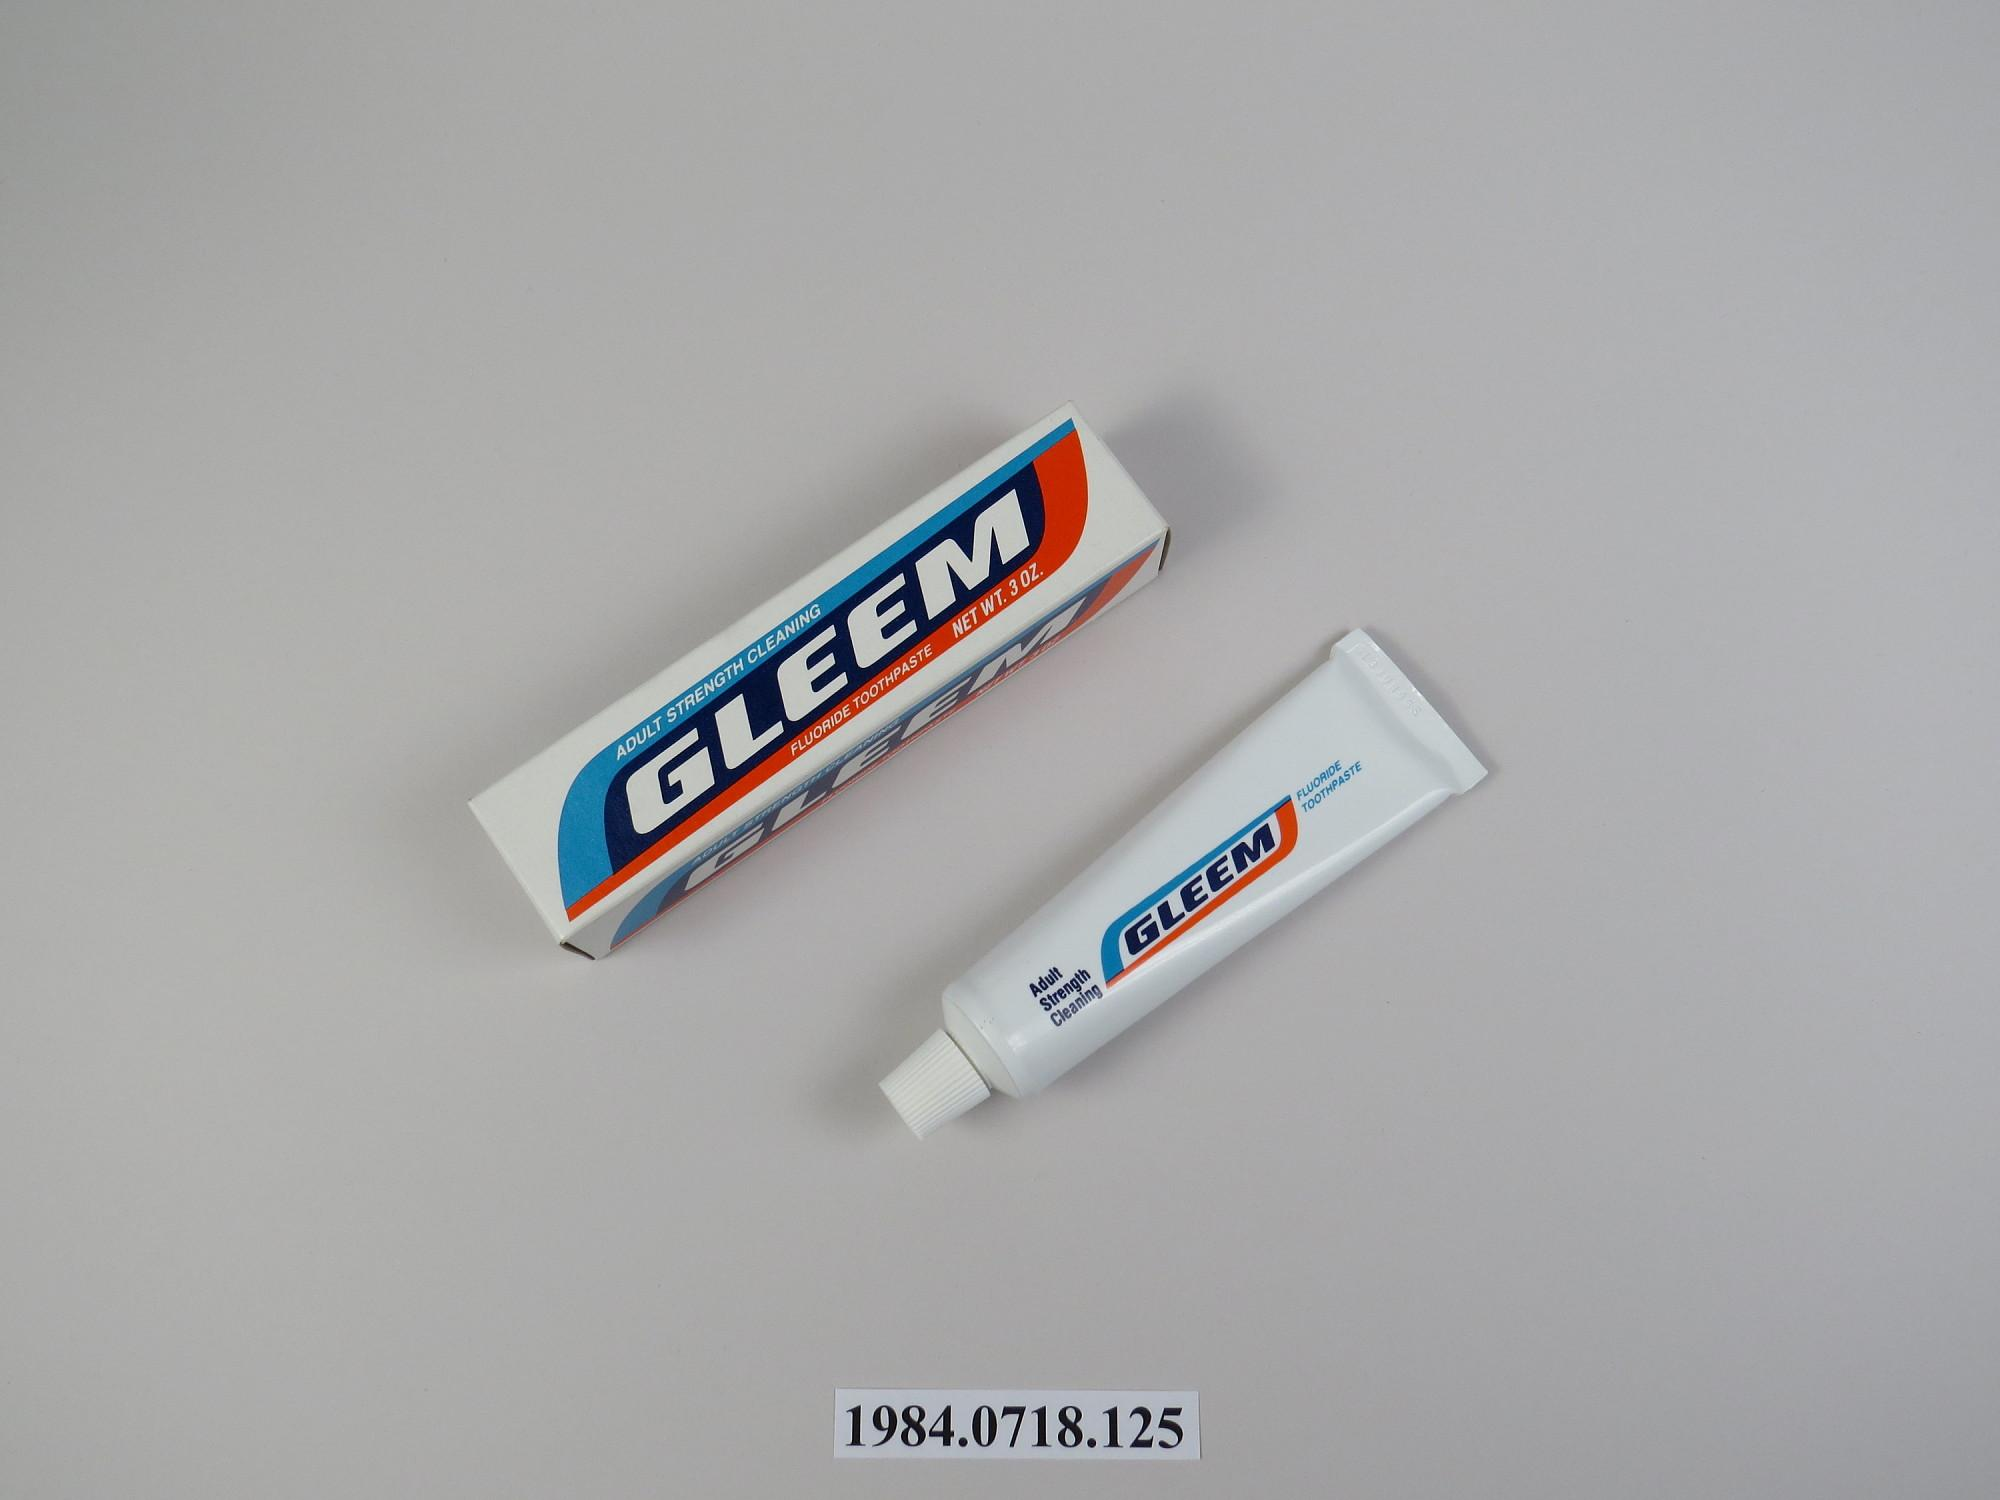toothpaste: (835, 608, 1539, 1169)
